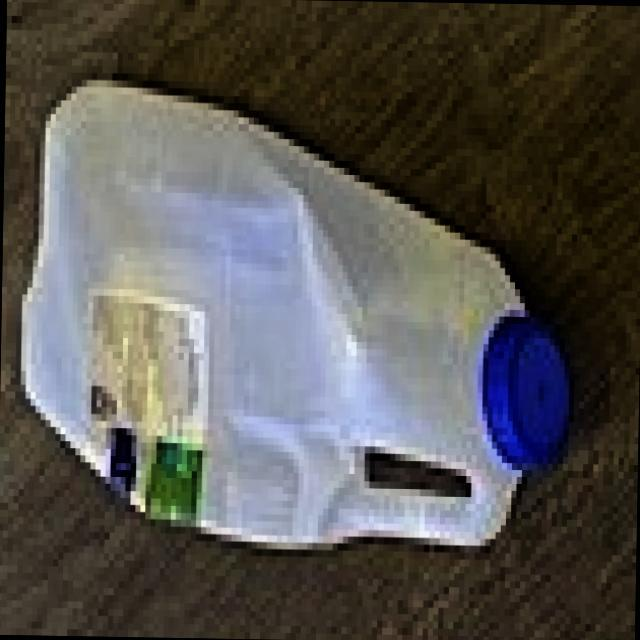HDPE Plastic: (14, 76, 573, 554)
